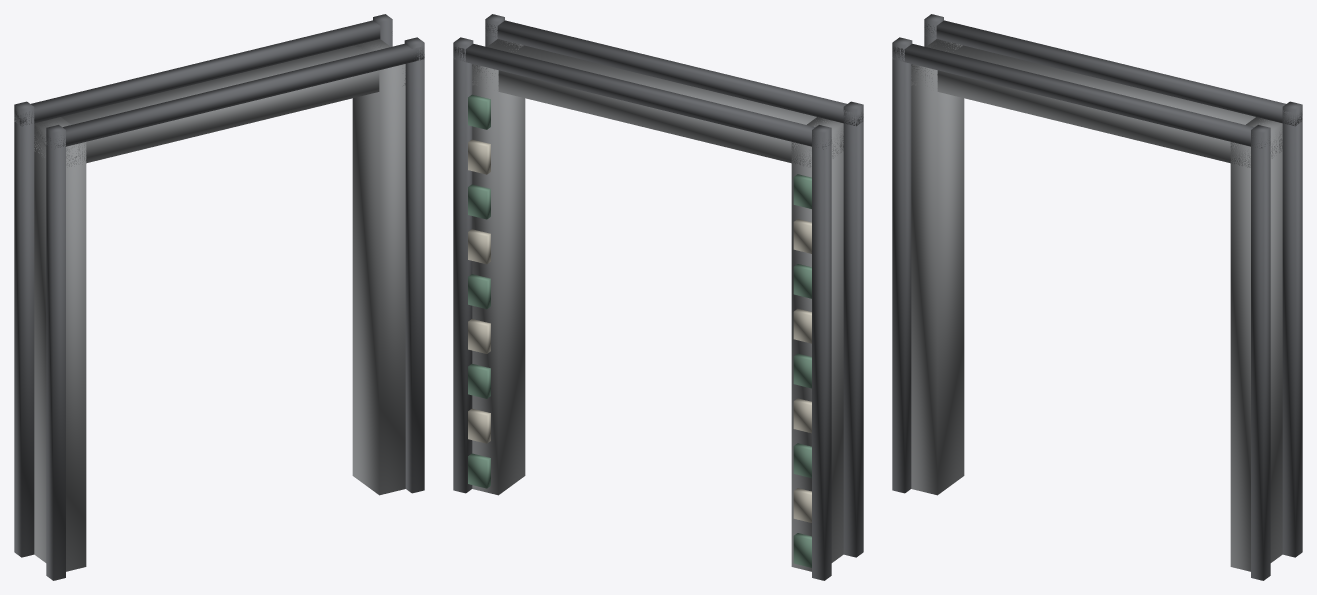
Rendered from doorway_tile_return_w152_h200_d24.glb.
3 views of the same model, side by side, from view 1: azimuth 30°, elevation 25°; view 2: azimuth 150°, elevation 25°; view 3: azimuth 330°, elevation 25° (orthographic).
Visible parts, largest first — view 1: world; view 2: world; view 3: world.
Boxes of the visible parts, box(x1,y1,x2,y2) form: world: box(14, 14, 424, 580); world: box(453, 14, 863, 580); world: box(892, 14, 1302, 580).
Size of the model in its own units: 1.92 by 2.22 by 0.3516.
